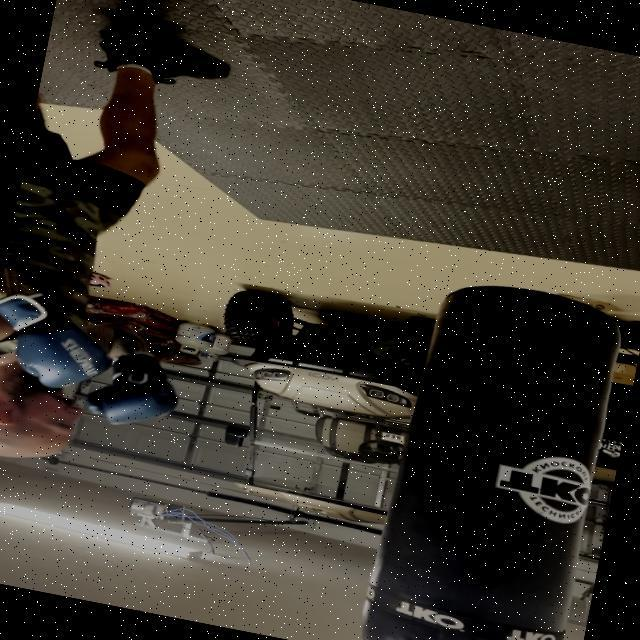bag: (0, 320, 74, 458)
